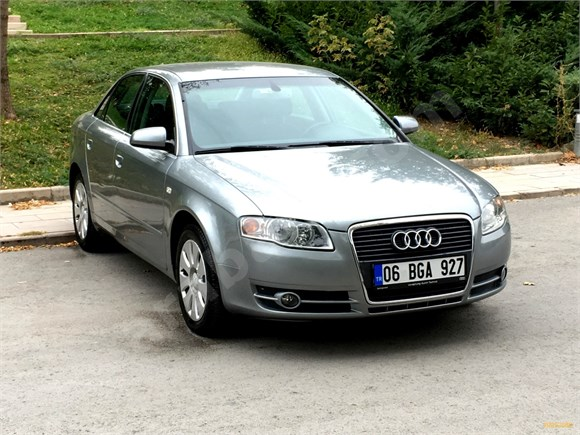audi: (387, 225, 447, 253)
